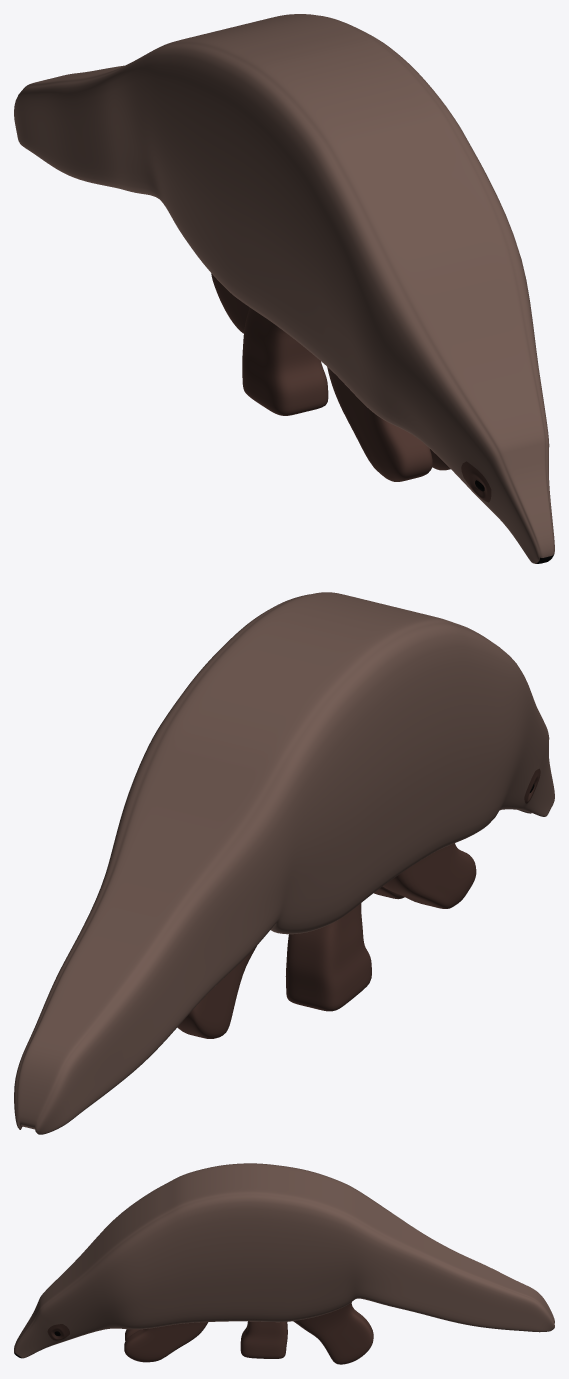
Rendered from pangolin.gltf.
3 views of the same model, one above another, from view 1: azimuth 30°, elevation 25°; view 2: azimuth 150°, elevation 25°; view 3: azimuth 270°, elevation 25° (orthographic). The views are drawn at different scales.
Visible parts, largest first — view 1: Cube; view 2: Cube; view 3: Cube.
Part boxes in pixels (<box>): Cube: <box>14,14,554,563</box>; Cube: <box>14,592,554,1134</box>; Cube: <box>14,1163,554,1364</box>.
Size of the model in its own units: 13.26 by 29.04 by 78.15.
